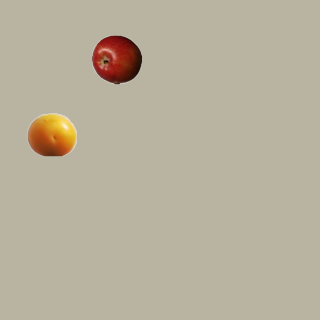Apple Braeburn: (91, 34, 141, 84)
Cherry Wax Yellow: (26, 109, 76, 159)
